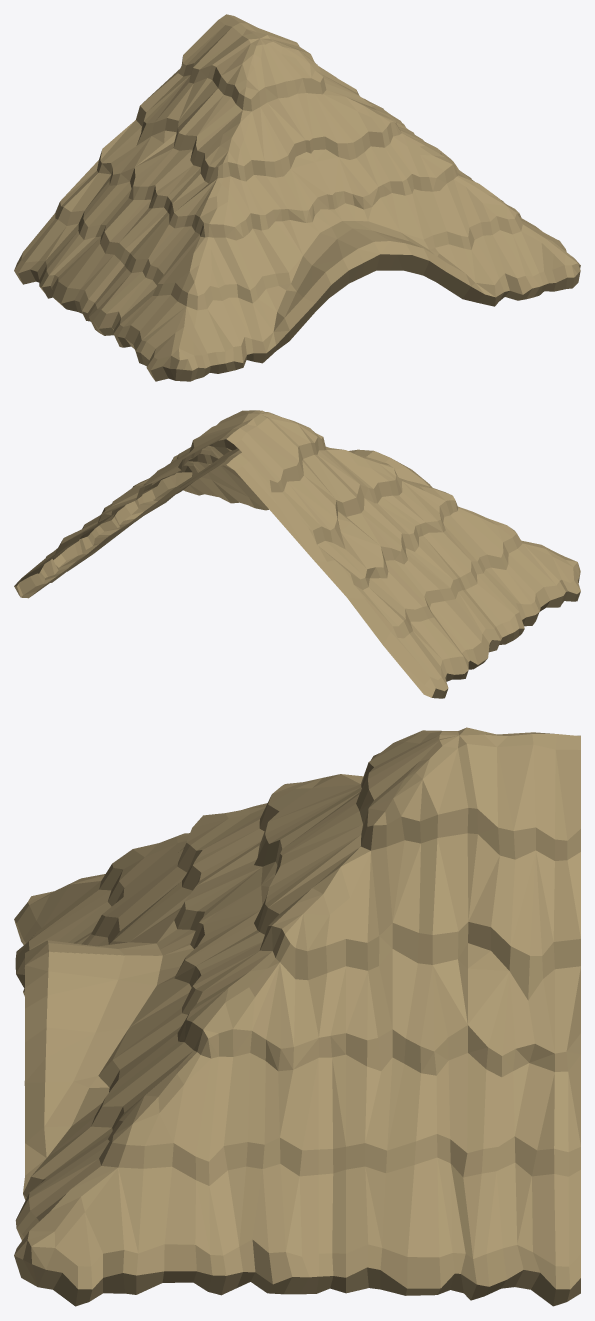
File: rpgpp_ag_roof_02_9x4x3_end_03.fbx
3 renders of one model, top to bottom at view 1: azimuth 30°, elevation 25°; view 2: azimuth 150°, elevation 25°; view 3: azimuth 270°, elevation 25°, orthographic. The views are drawn at different scales.
Parts seen in each view (by area): view 1: rpgpp_ag_roof_02_9x4x3_end_03; view 2: rpgpp_ag_roof_02_9x4x3_end_03; view 3: rpgpp_ag_roof_02_9x4x3_end_03.
Boxes of the visible parts, x1,y1,x2,y2 form: rpgpp_ag_roof_02_9x4x3_end_03: (14,14,580,381); rpgpp_ag_roof_02_9x4x3_end_03: (14,410,580,698); rpgpp_ag_roof_02_9x4x3_end_03: (14,727,580,1306).
Bounding box in the file's own units: 11.07 × 5.27 × 7.
